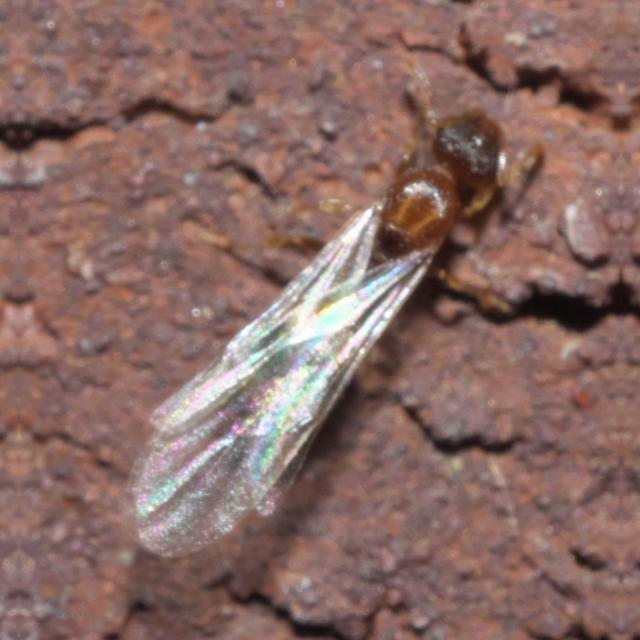Temnothorax: (39, 61, 548, 534)
